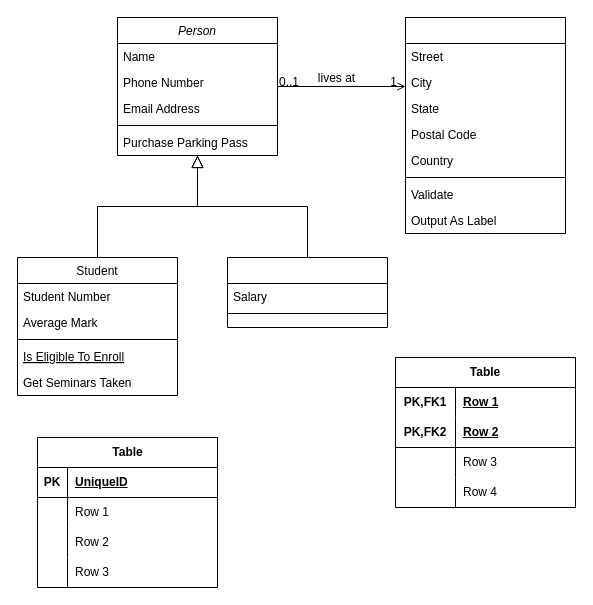
Some shapes in this 593 by 605 pixel diagram are drawn without their labels. The box of each missing label's shape, as (x1, y1, x2, y2) in pixels:
Address: (404, 16, 566, 234)
Professor: (226, 256, 388, 328)
